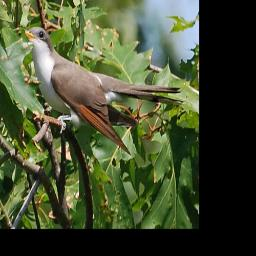Cuckoo: (25, 26, 185, 155)
